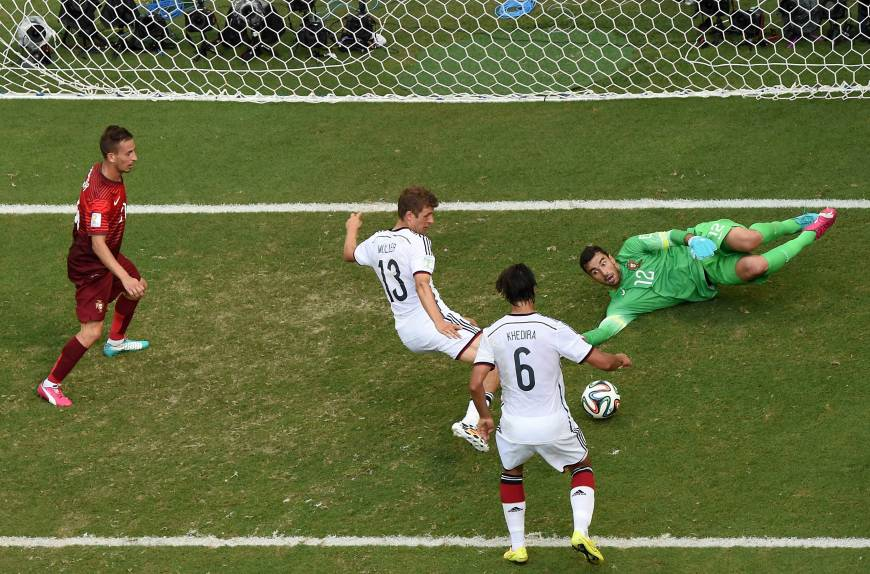football: (579, 375, 624, 422)
